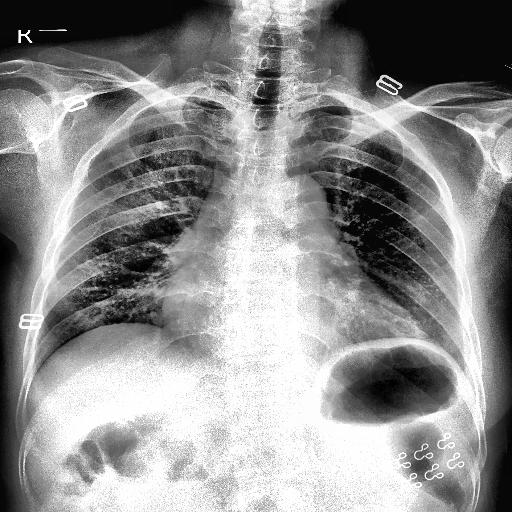0- Aortic enlargement: (268, 176, 326, 218)
3- Cardiomegaly: (163, 280, 430, 362), (162, 280, 427, 346), (162, 286, 428, 340)
7- Lung Opacity: (72, 102, 228, 244)
